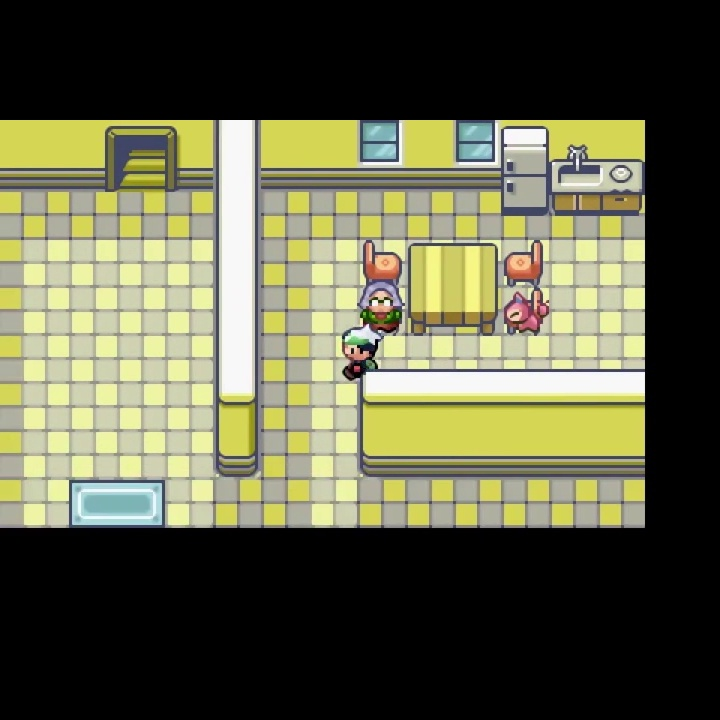exit: (67, 476, 169, 582)
npc: (357, 280, 405, 335), (340, 323, 383, 383)
